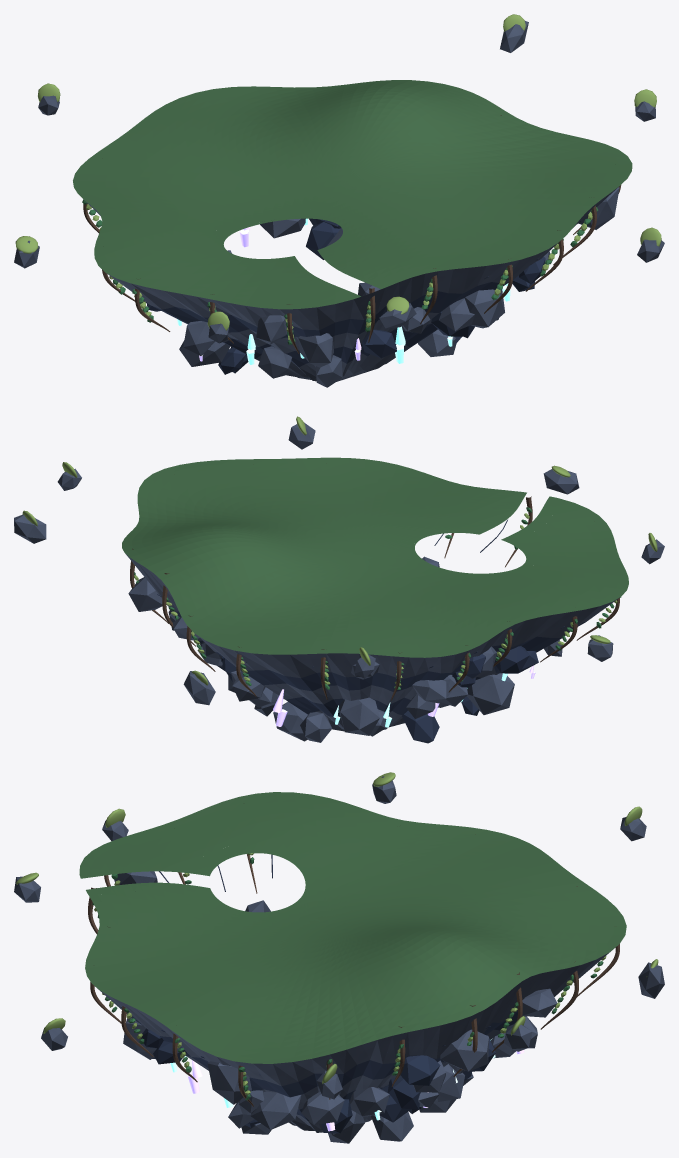
The model's file is whispering-forest-island.glb.
3 views of the same model, one above another, from view 1: azimuth 30°, elevation 25°; view 2: azimuth 150°, elevation 25°; view 3: azimuth 270°, elevation 25° (orthographic). The views are drawn at different scales.
Visible parts, largest first — view 1: ForestTerrain_grass, ForestTerrain_stone, ForestTerrain_dark, ForestTerrain_bark, ForestTerrain_leaf, ForestTerrain_moss, ForestTerrain_glow, ForestFloatingStone_5_stone; view 2: ForestTerrain_grass, ForestTerrain_stone, ForestTerrain_dark, ForestTerrain_bark, ForestTerrain_leaf, ForestFloatingStone_5_stone, ForestFloatingStone_2_stone, ForestFloatingStone_6_stone, ForestTerrain_moss; view 3: ForestTerrain_grass, ForestTerrain_stone, ForestTerrain_dark, ForestTerrain_bark, ForestTerrain_leaf, ForestFloatingStone_2_stone, ForestTerrain_moss, ForestFloatingStone_5_stone.
Part boxes in pixels (x1,y1,x2,y2): ForestTerrain_grass: (73, 80, 632, 309); ForestTerrain_stone: (85, 186, 619, 387); ForestTerrain_dark: (144, 211, 590, 374); ForestTerrain_bark: (83, 115, 621, 353); ForestTerrain_leaf: (82, 199, 598, 344); ForestTerrain_moss: (86, 204, 592, 340); ForestTerrain_glow: (177, 218, 510, 364); ForestFloatingStone_5_stone: (500, 21, 528, 52); ForestTerrain_grass: (122, 457, 628, 657); ForestTerrain_stone: (126, 554, 619, 742); ForestTerrain_dark: (157, 519, 585, 743); ForestTerrain_bark: (130, 496, 619, 700); ForestTerrain_leaf: (134, 507, 621, 689); ForestFloatingStone_5_stone: (14, 514, 46, 543); ForestFloatingStone_2_stone: (183, 671, 215, 705); ForestFloatingStone_6_stone: (543, 469, 579, 494); ForestTerrain_moss: (134, 513, 617, 686); ForestTerrain_grass: (79, 792, 626, 1063); ForestTerrain_stone: (95, 871, 615, 1143); ForestTerrain_dark: (120, 854, 573, 1133); ForestTerrain_bark: (88, 834, 619, 1106); ForestTerrain_leaf: (92, 857, 603, 1100); ForestFloatingStone_2_stone: (638, 962, 664, 998); ForestTerrain_moss: (94, 853, 606, 1094); ForestFloatingStone_5_stone: (504, 1024, 531, 1051).
Size of the model in its own units: 23.96 by 8.83 by 20.21.
Materials: 8 (1 with a texture image).
